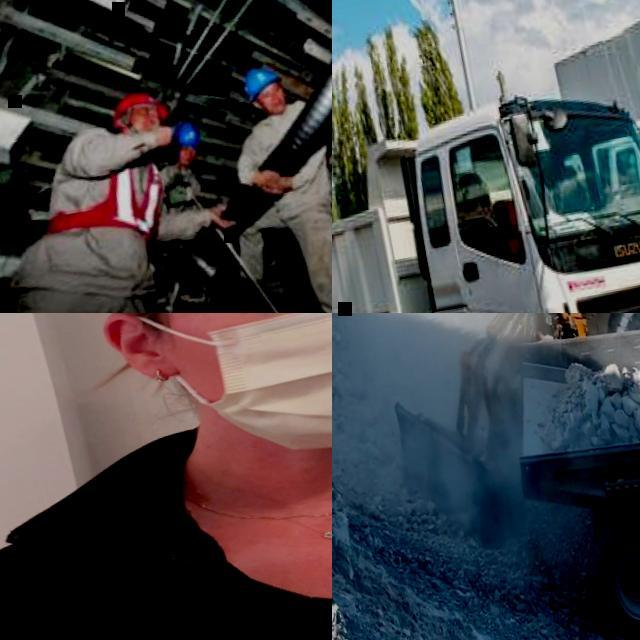Weapon: (26, 48, 203, 308), (205, 31, 340, 312)
objects: (84, 78, 196, 180), (224, 62, 312, 148)
